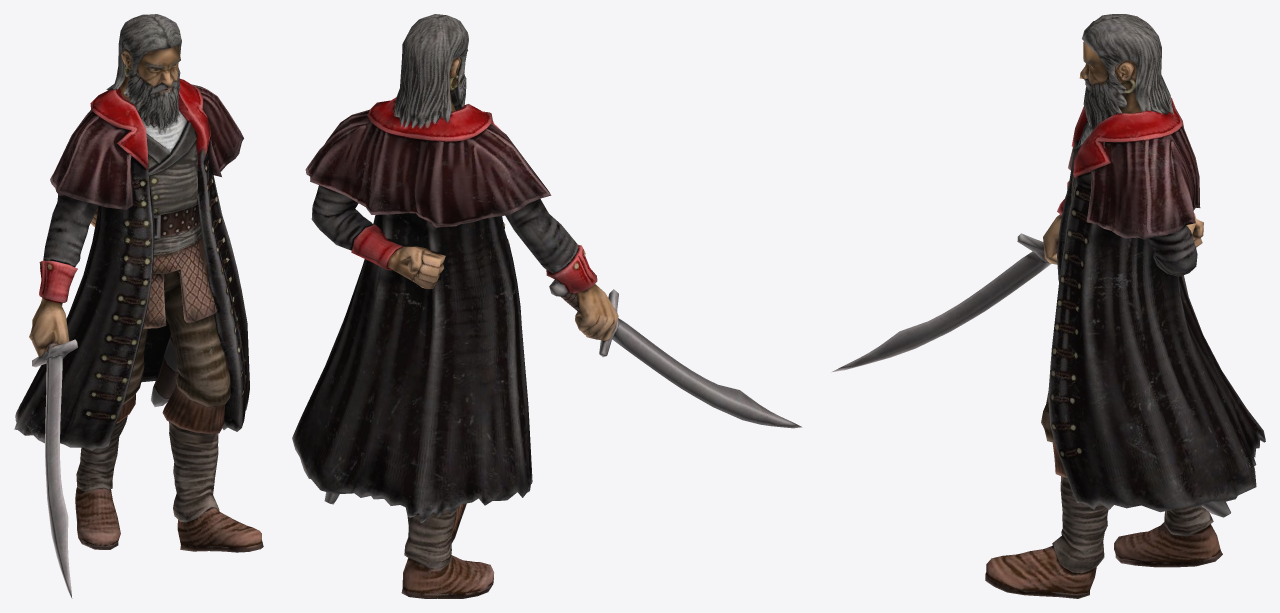
The model's file is MZ4250 - Bandit Captain Male 01.glb.
3 views of the same model, side by side, from view 1: azimuth 30°, elevation 25°; view 2: azimuth 150°, elevation 25°; view 3: azimuth 270°, elevation 25° (orthographic). The views are drawn at different scales.
Visible parts, largest first — view 1: BanditCaptainMale01; view 2: BanditCaptainMale01; view 3: BanditCaptainMale01.
Boxes of the visible parts, bbox=[...] form: BanditCaptainMale01: bbox=[14, 14, 263, 598]; BanditCaptainMale01: bbox=[292, 14, 802, 598]; BanditCaptainMale01: bbox=[831, 14, 1265, 598].
Size of the model in its own units: 0.6784 by 1.06 by 0.7359.
1 material, 1 textured.
